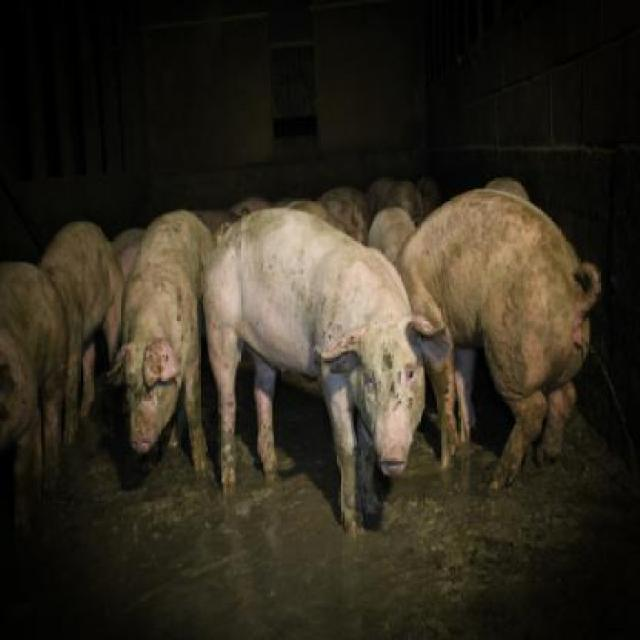pig: (0, 180, 602, 542)
